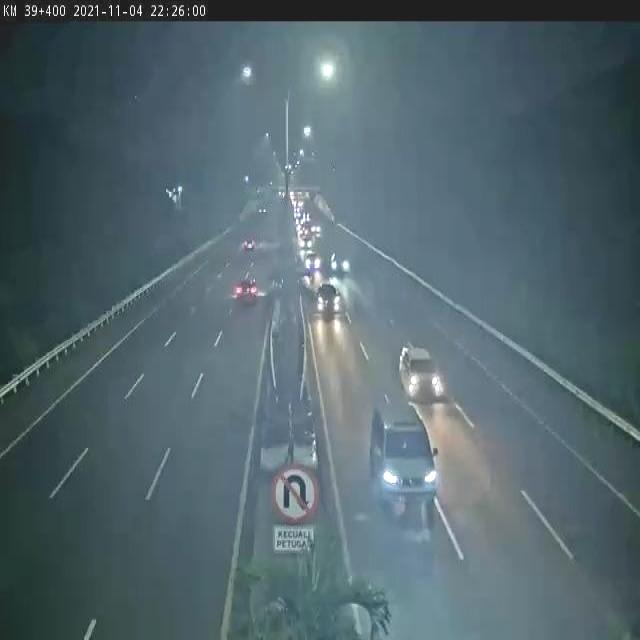Car: (399, 344, 445, 405), (314, 282, 340, 311), (234, 274, 259, 304), (302, 254, 322, 271), (241, 237, 257, 250)
Van: (367, 399, 440, 526)
